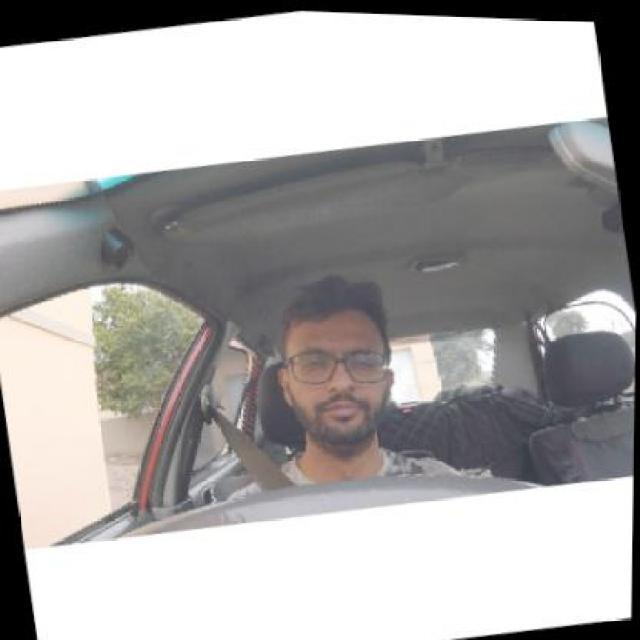drowsy: (280, 292, 395, 462)
